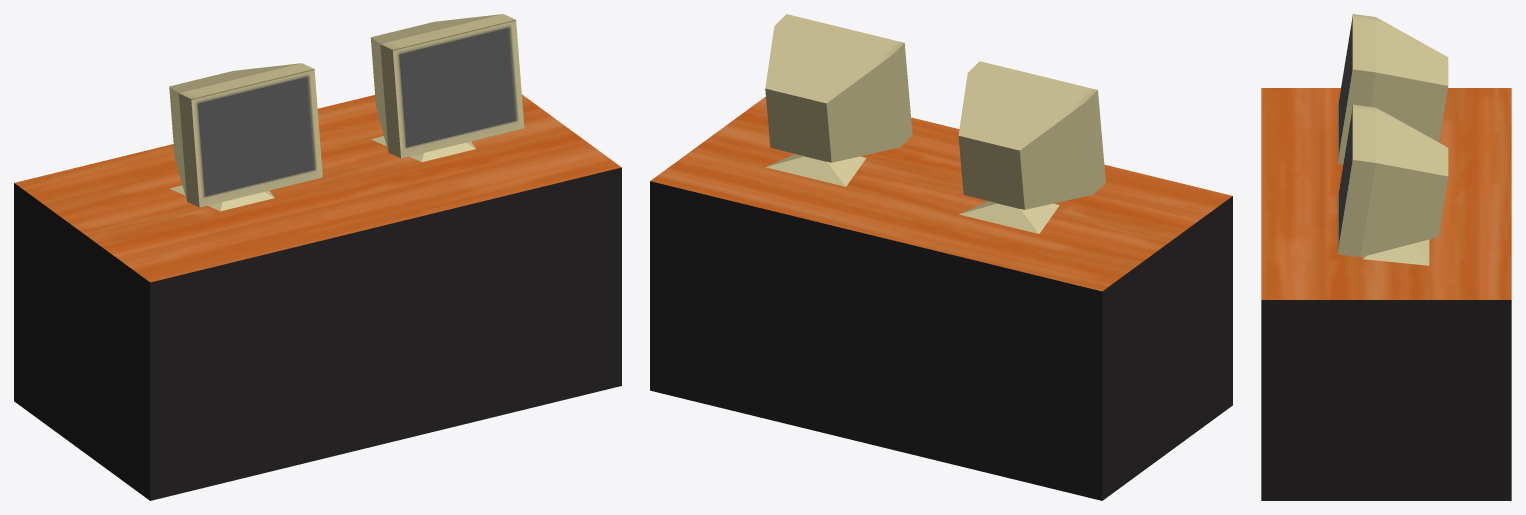
The model's file is Old_Monitor_Desk.fbx.
3 views of the same model, side by side, from view 1: azimuth 30°, elevation 25°; view 2: azimuth 150°, elevation 25°; view 3: azimuth 270°, elevation 25° (orthographic). The views are drawn at different scales.
Parts seen in each view (by area): view 1: Old_Monitor_Desk; view 2: Old_Monitor_Desk; view 3: Old_Monitor_Desk.
Part boxes in pixels (x1,y1,x2,y2): Old_Monitor_Desk: [14, 14, 621, 500]; Old_Monitor_Desk: [650, 14, 1232, 500]; Old_Monitor_Desk: [1261, 14, 1511, 500].
Bounding box in the file's own units: 2 × 1.39 × 1.
